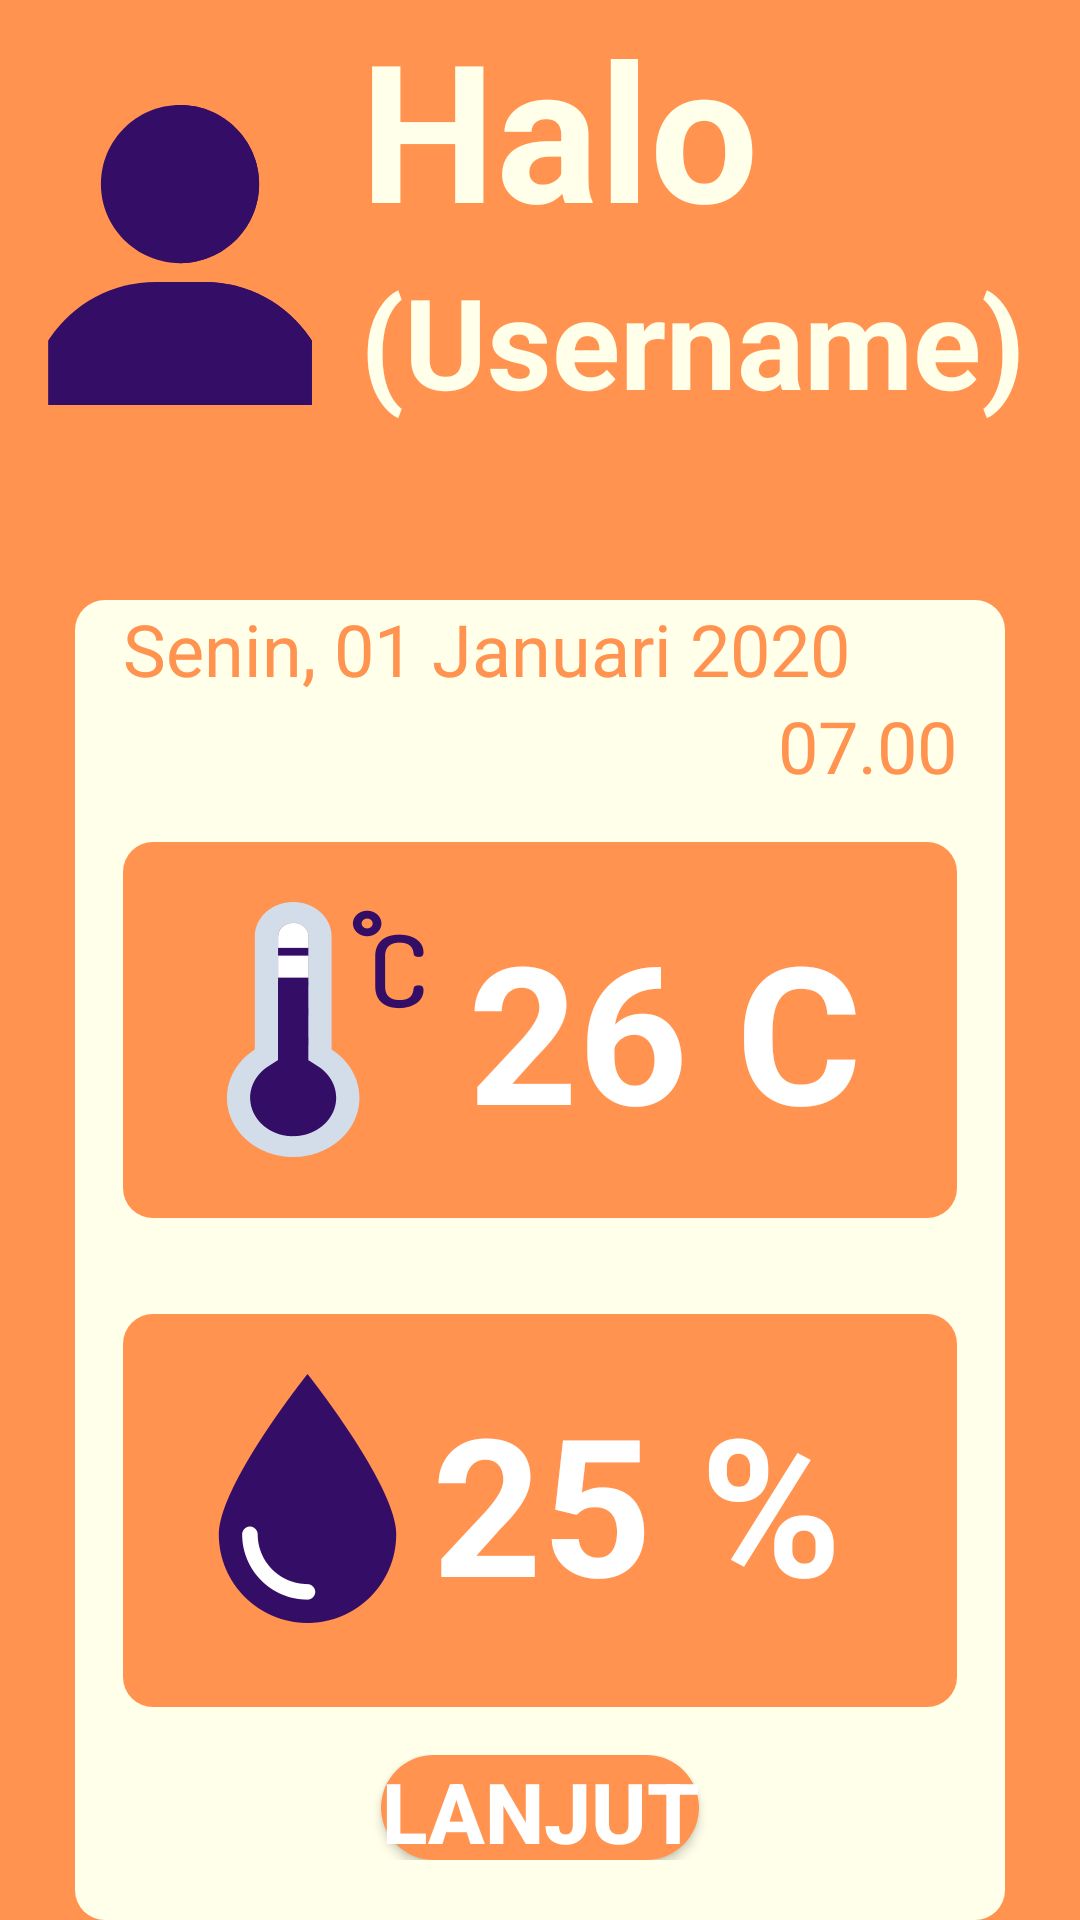

Where icons sit on this 1080*1920 app screen, as (x1, y1, x2, y2):
drop: (218, 1374, 397, 1623)
thermometer: (227, 902, 424, 1157)
